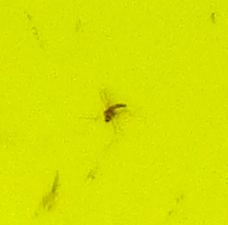Nematocera: (100, 100, 128, 125)
